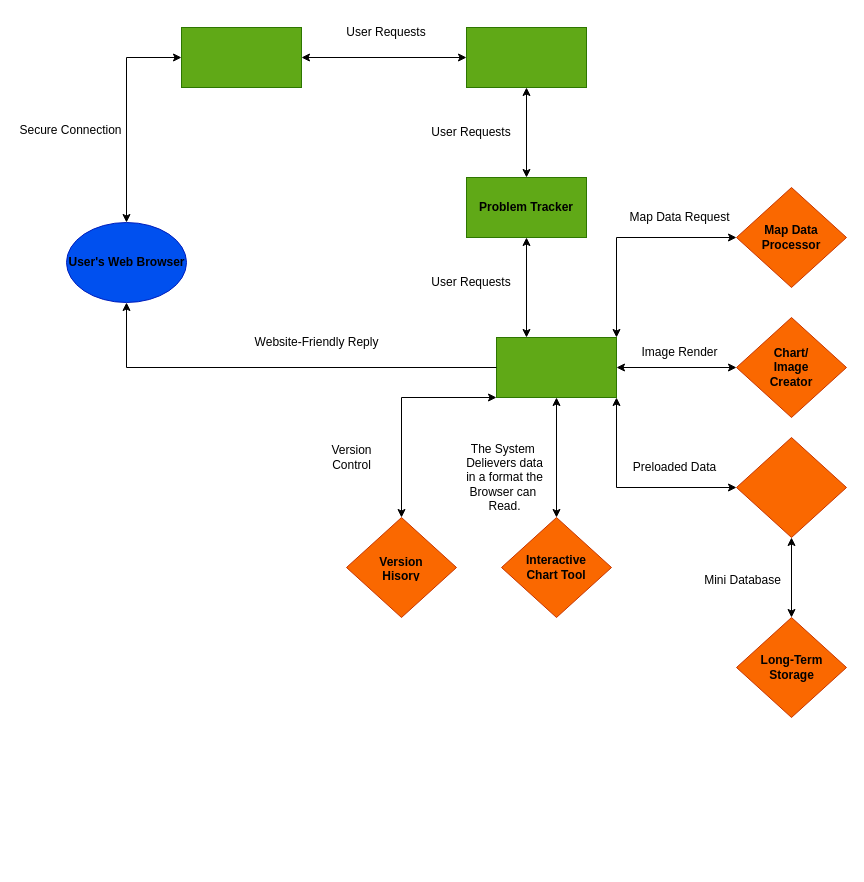
Some shapes in this 864 by 882 pixel diagram are drawn without their labels. Each missing label, with the box of its shape:
Main Application: (496, 336, 616, 398)
Online Server: (466, 26, 586, 88)
Security Checkpoint: (180, 26, 302, 88)
Stored Documents: (736, 436, 846, 538)
